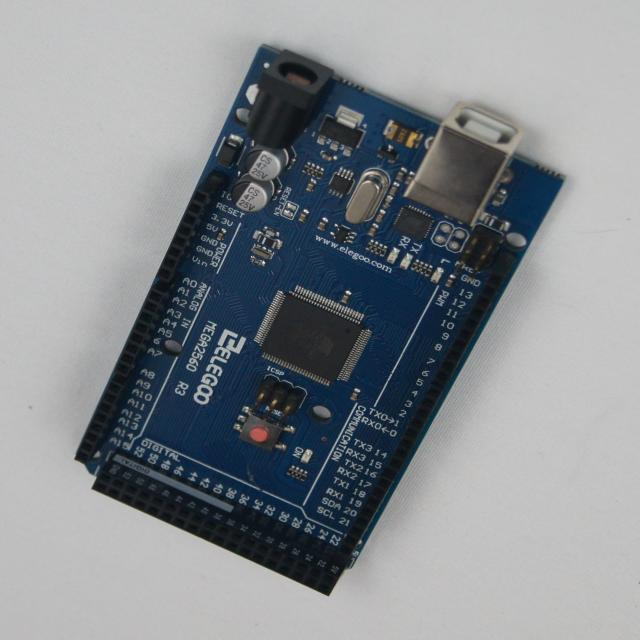Arduino Mega 2560 -Blue-: (77, 46, 564, 595)
